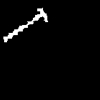half_double_crochet: (4, 8, 47, 41)
